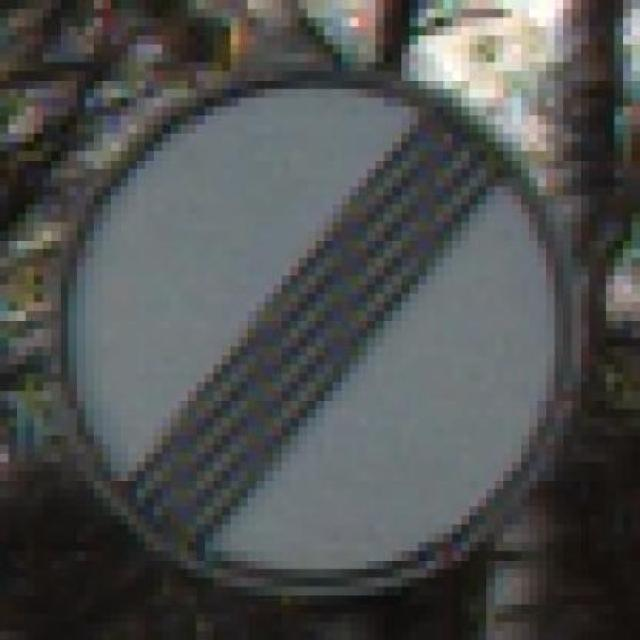End of all speed and passing limits: (31, 67, 587, 591)
